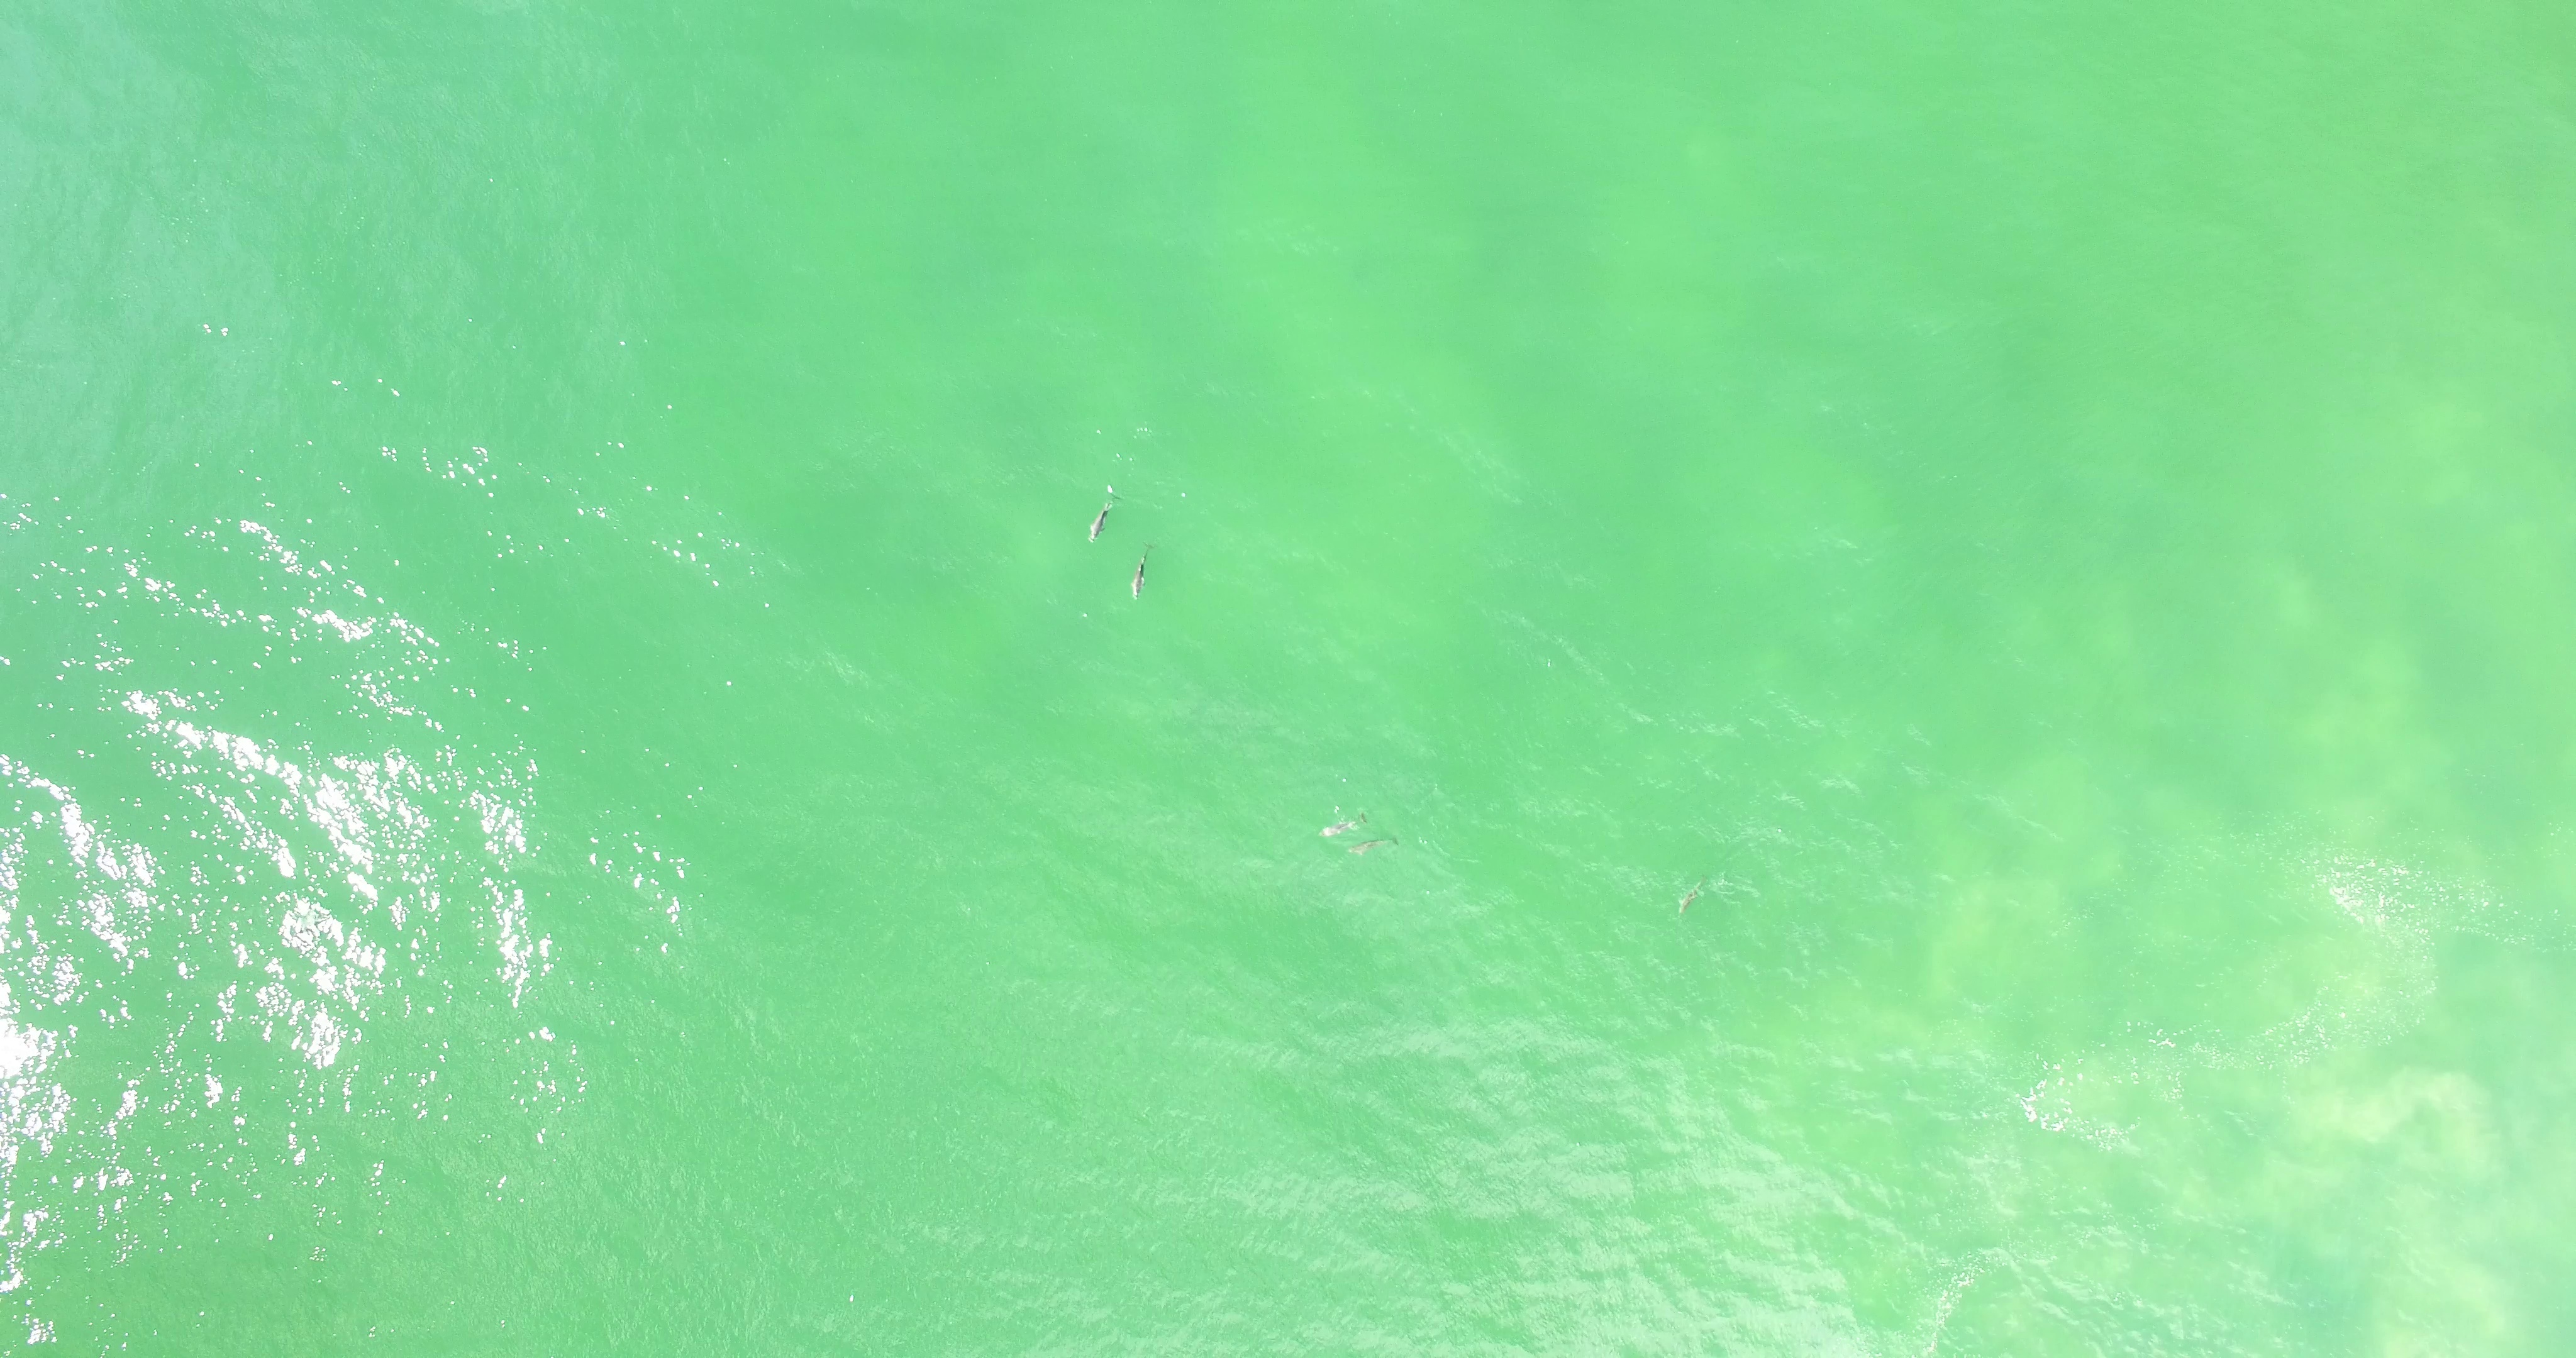dolphin: (1087, 484, 1119, 544), (1130, 542, 1159, 600), (1676, 872, 1711, 913), (1317, 813, 1373, 837), (1344, 835, 1404, 857)
